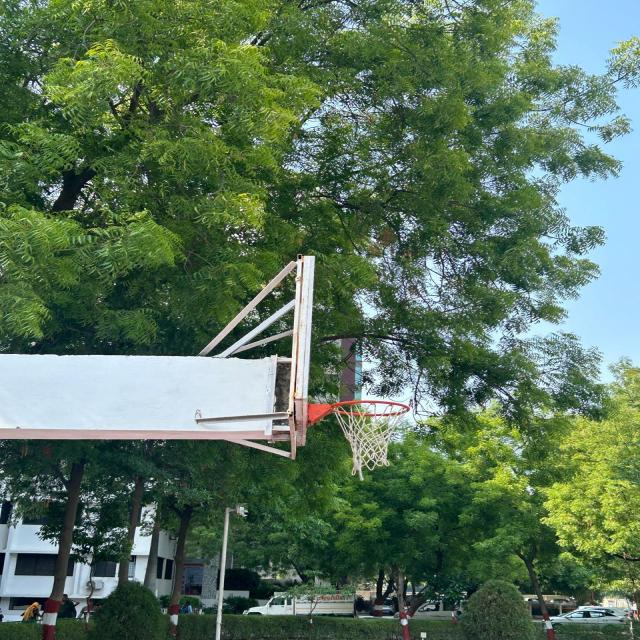hoop: (312, 389, 437, 484)
